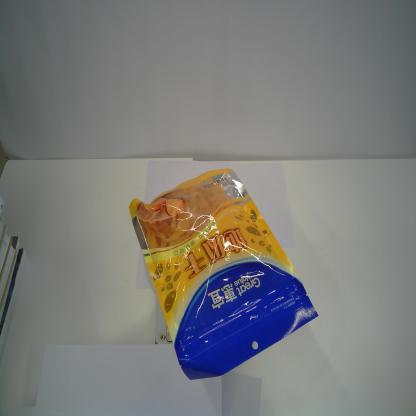Dried Fruit: (127, 165, 321, 381)
